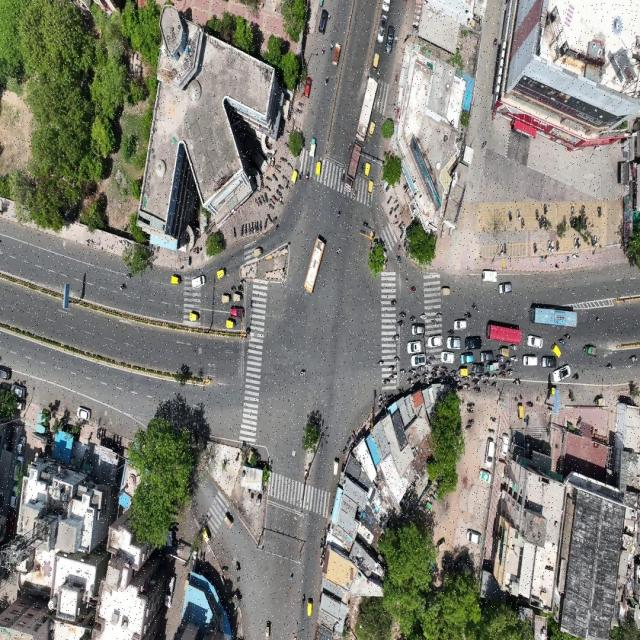3W: (582, 339, 598, 360), (200, 526, 215, 546), (222, 510, 235, 533), (306, 595, 315, 621), (368, 120, 378, 141), (332, 454, 341, 477), (516, 403, 526, 423), (314, 160, 324, 179), (372, 50, 380, 73), (252, 245, 265, 259), (440, 284, 452, 299), (364, 161, 373, 180), (367, 179, 376, 197), (291, 168, 300, 186), (457, 366, 469, 378), (170, 273, 181, 286), (551, 343, 561, 357), (486, 363, 501, 372), (216, 268, 227, 280), (220, 293, 230, 305), (225, 319, 237, 329), (497, 347, 509, 357), (189, 312, 199, 322), (232, 293, 242, 303)
Bus: (525, 303, 580, 329), (485, 322, 522, 344)
Cars: (484, 435, 496, 470), (317, 7, 331, 36), (385, 21, 395, 59), (552, 364, 570, 385), (465, 527, 483, 547), (376, 13, 387, 45), (75, 403, 93, 422), (526, 333, 543, 350), (189, 274, 208, 289), (303, 74, 313, 102), (463, 336, 483, 350), (480, 268, 498, 283), (439, 350, 456, 365), (540, 355, 557, 370), (230, 304, 246, 319), (497, 282, 514, 296), (445, 336, 462, 350), (408, 354, 427, 366), (426, 335, 443, 348), (522, 354, 539, 367), (406, 341, 422, 354), (409, 324, 426, 336), (451, 319, 469, 330), (470, 363, 486, 375), (459, 352, 476, 363), (480, 350, 494, 363)
LCV: (332, 36, 342, 72), (308, 135, 319, 158)
M2W: (625, 351, 638, 364), (333, 206, 344, 221), (116, 281, 128, 293), (334, 244, 343, 260), (390, 331, 402, 343), (393, 68, 400, 88), (234, 558, 243, 573), (375, 357, 386, 368), (531, 239, 538, 256), (352, 186, 358, 205), (300, 591, 306, 610), (323, 72, 330, 88), (605, 362, 615, 373), (279, 153, 288, 165), (375, 96, 382, 111), (520, 214, 527, 229), (554, 238, 561, 253), (569, 203, 576, 218), (463, 380, 471, 393), (595, 204, 603, 217), (473, 385, 483, 395), (299, 367, 308, 378), (564, 331, 573, 342), (320, 43, 327, 57), (299, 168, 305, 184), (472, 300, 480, 312), (503, 238, 508, 257), (231, 226, 238, 239), (433, 312, 446, 319), (124, 270, 134, 279), (388, 297, 398, 306), (399, 310, 408, 320), (395, 255, 404, 265), (465, 424, 475, 433), (513, 377, 522, 387), (510, 353, 519, 363), (508, 206, 513, 224), (278, 198, 286, 209), (465, 408, 476, 416), (594, 232, 599, 249), (305, 170, 311, 184), (347, 137, 353, 151), (394, 353, 401, 365), (462, 311, 474, 318), (464, 400, 476, 407), (534, 207, 540, 221), (572, 237, 578, 251), (408, 285, 417, 294), (419, 312, 428, 321), (408, 314, 417, 323), (278, 182, 287, 191), (495, 353, 504, 362), (556, 338, 566, 346), (377, 67, 383, 80), (543, 201, 549, 214), (403, 377, 414, 384), (500, 241, 504, 260), (329, 40, 335, 52), (263, 218, 269, 230), (254, 199, 260, 211), (275, 189, 283, 198), (260, 194, 266, 206), (382, 378, 391, 386), (387, 364, 396, 372), (482, 380, 490, 389), (490, 373, 499, 381), (258, 220, 263, 234), (272, 173, 279, 183), (268, 202, 275, 212), (272, 195, 279, 205), (400, 367, 407, 377), (510, 344, 520, 351), (428, 355, 438, 362), (516, 208, 521, 222), (341, 159, 346, 172), (250, 220, 254, 236), (296, 108, 304, 116), (507, 368, 515, 376), (491, 381, 499, 389), (236, 284, 245, 291), (265, 184, 272, 193), (266, 175, 273, 184), (297, 100, 306, 107), (390, 373, 399, 380), (393, 195, 400, 204), (245, 221, 248, 241), (229, 285, 237, 292), (505, 360, 513, 367), (548, 240, 552, 254), (578, 237, 582, 251), (239, 278, 248, 284), (467, 418, 476, 424), (408, 369, 417, 375), (417, 366, 426, 372), (387, 195, 393, 204), (394, 204, 400, 213), (341, 173, 345, 186), (240, 224, 244, 237), (256, 221, 259, 235), (389, 207, 394, 215), (400, 229, 404, 239), (394, 219, 400, 225)
Truck: (303, 232, 328, 300), (356, 74, 378, 144), (344, 142, 362, 193)
